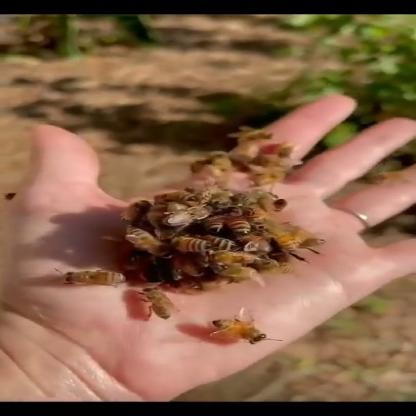bee: (99, 99, 370, 363), (197, 302, 290, 354), (118, 276, 193, 333), (49, 254, 140, 286)
